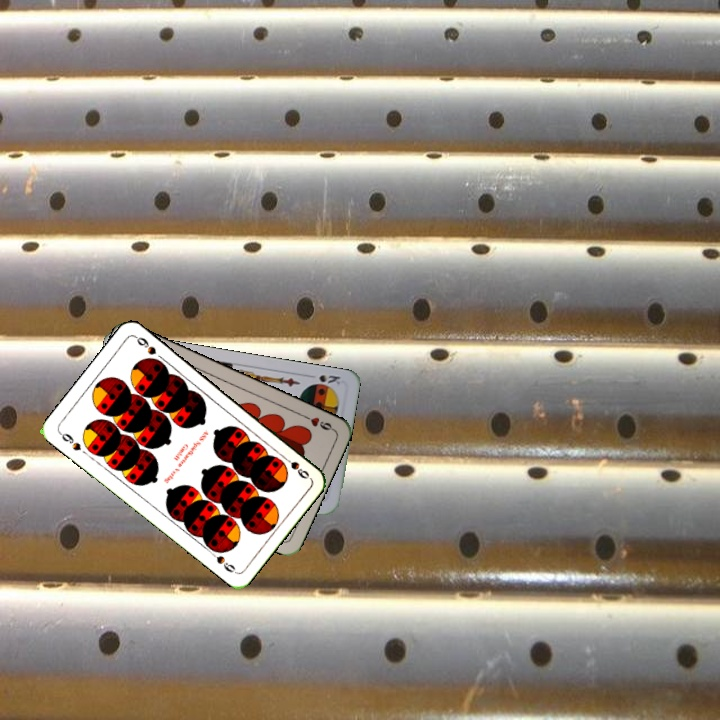H9: (298, 410, 336, 433)
S9: (277, 451, 312, 482), (55, 428, 84, 453)
SK: (304, 370, 343, 387)
